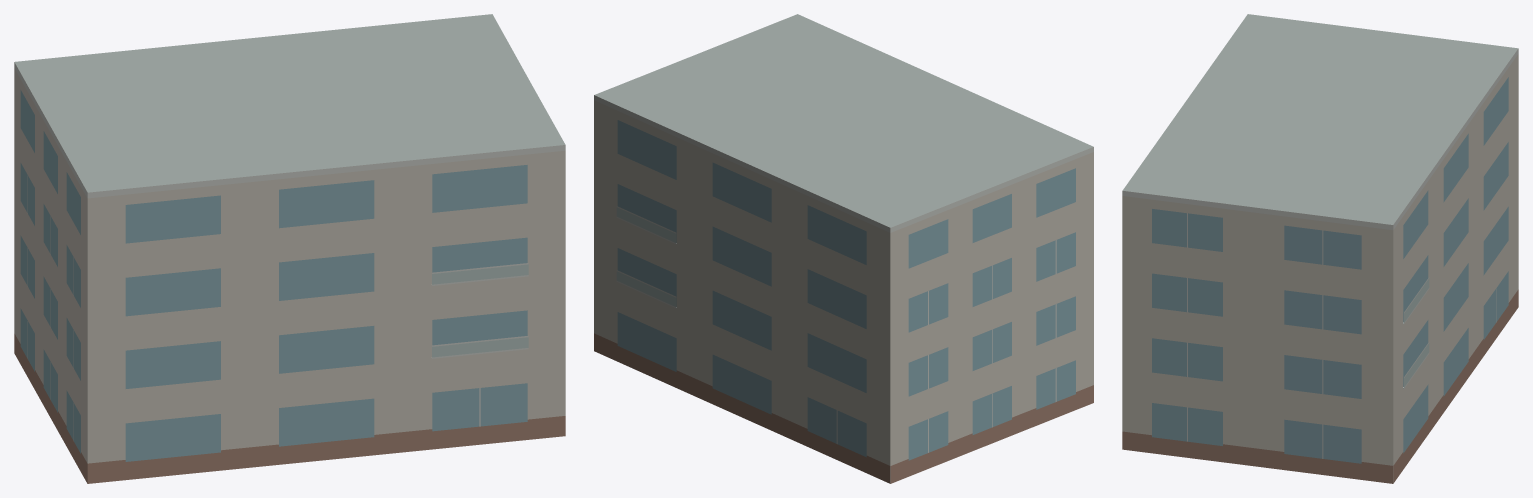
The model's file is residential-c9d9cbd6-a16b-4189-9e62-2d91b95b5078.glb.
The picture shows the model from 3 angles, left to right: view 1: azimuth 30°, elevation 25°; view 2: azimuth 150°, elevation 25°; view 3: azimuth 270°, elevation 25°; orthographic projection. The views are drawn at different scales.
Parts seen in each view (by area): view 1: residential-c9d9cbd6-a16b-4189-9e62-2d91b95b5078.tmp; view 2: residential-c9d9cbd6-a16b-4189-9e62-2d91b95b5078.tmp; view 3: residential-c9d9cbd6-a16b-4189-9e62-2d91b95b5078.tmp.
Boxes of the visible parts, x1,y1,x2,y2 form: residential-c9d9cbd6-a16b-4189-9e62-2d91b95b5078.tmp: [14, 14, 565, 483]; residential-c9d9cbd6-a16b-4189-9e62-2d91b95b5078.tmp: [594, 14, 1093, 483]; residential-c9d9cbd6-a16b-4189-9e62-2d91b95b5078.tmp: [1122, 14, 1518, 483].
Bounding box in the file's own units: 21.35 × 12.2 × 16.93.
